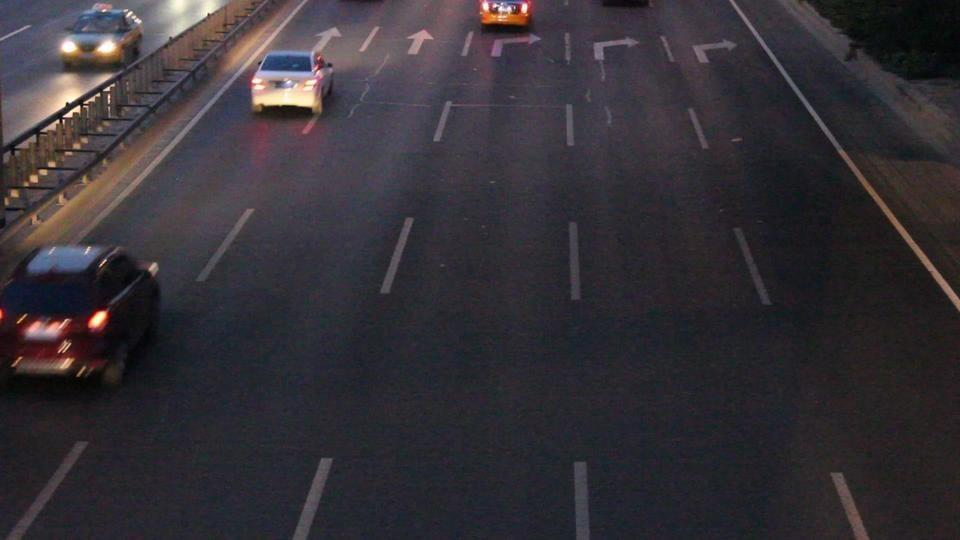car: (0, 241, 162, 388), (248, 50, 334, 116), (58, 6, 144, 70), (478, 0, 534, 31)
